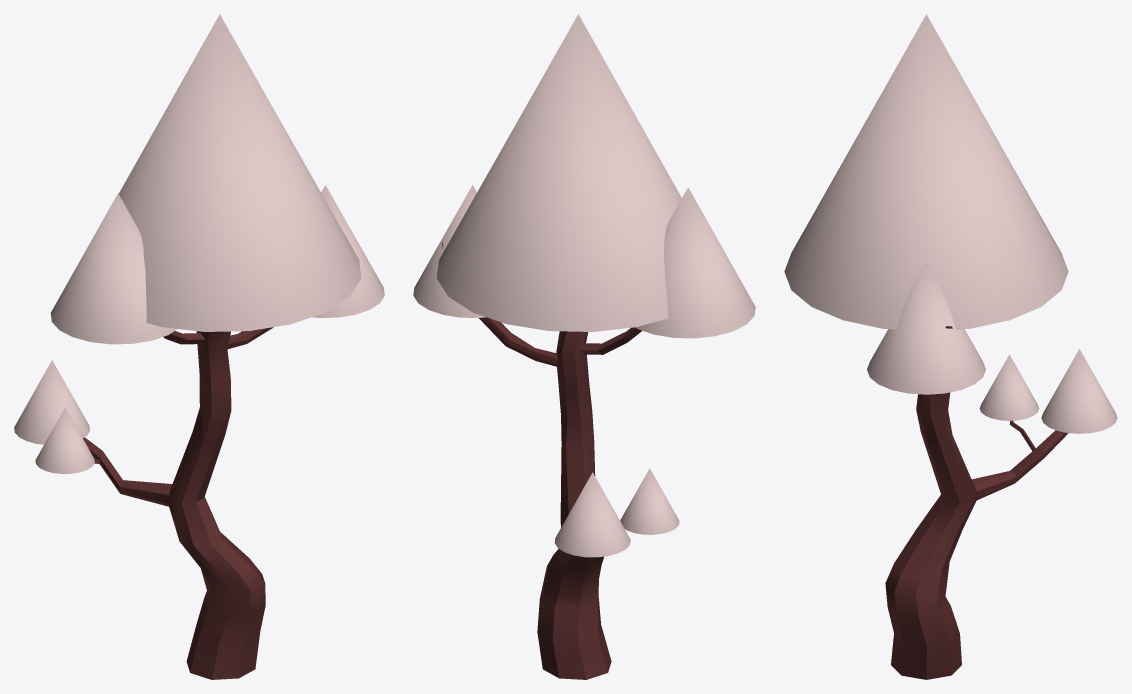
The model's file is Model_Tree.fbx.
The picture shows the model from 3 angles, left to right: view 1: azimuth 30°, elevation 25°; view 2: azimuth 150°, elevation 25°; view 3: azimuth 270°, elevation 25°; orthographic projection.
Parts seen in each view (by area): view 1: Tree; view 2: Tree; view 3: Tree.
Part boxes in pixels (x1=…): Tree: x1=14, y1=14, x2=384, y2=679; Tree: x1=413, y1=14, x2=755, y2=679; Tree: x1=784, y1=14, x2=1117, y2=679.
Size of the model in its own units: 9.38 by 18.16 by 8.43.
Materials: 1 (1 with a texture image).
